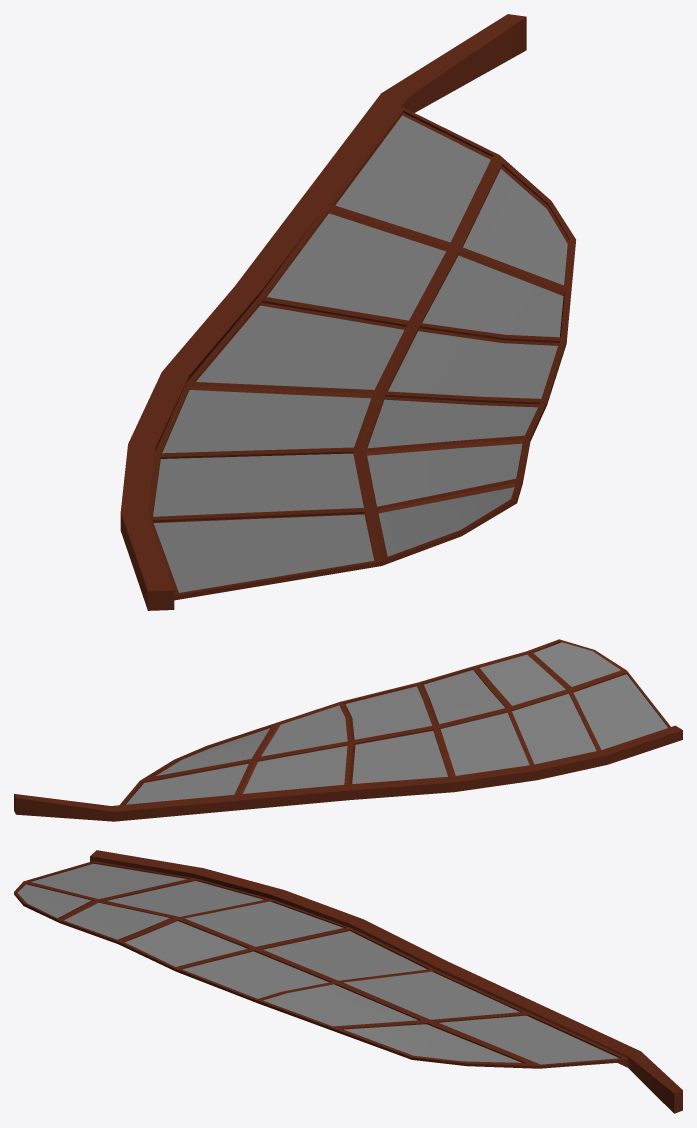
The model's file is ST_Wing_01.fbx.
3 renders of one model, top to bottom at view 1: azimuth 30°, elevation 25°; view 2: azimuth 150°, elevation 25°; view 3: azimuth 270°, elevation 25°, orthographic. The views are drawn at different scales.
Visible parts, largest first — view 1: _Wing_01; view 2: _Wing_01; view 3: _Wing_01.
Boxes of the visible parts, x1,y1,x2,y2 form: _Wing_01: [120, 14, 575, 610]; _Wing_01: [14, 639, 682, 821]; _Wing_01: [14, 850, 682, 1113].
Bounding box in the file's own units: 3943 × 357 × 4422.
